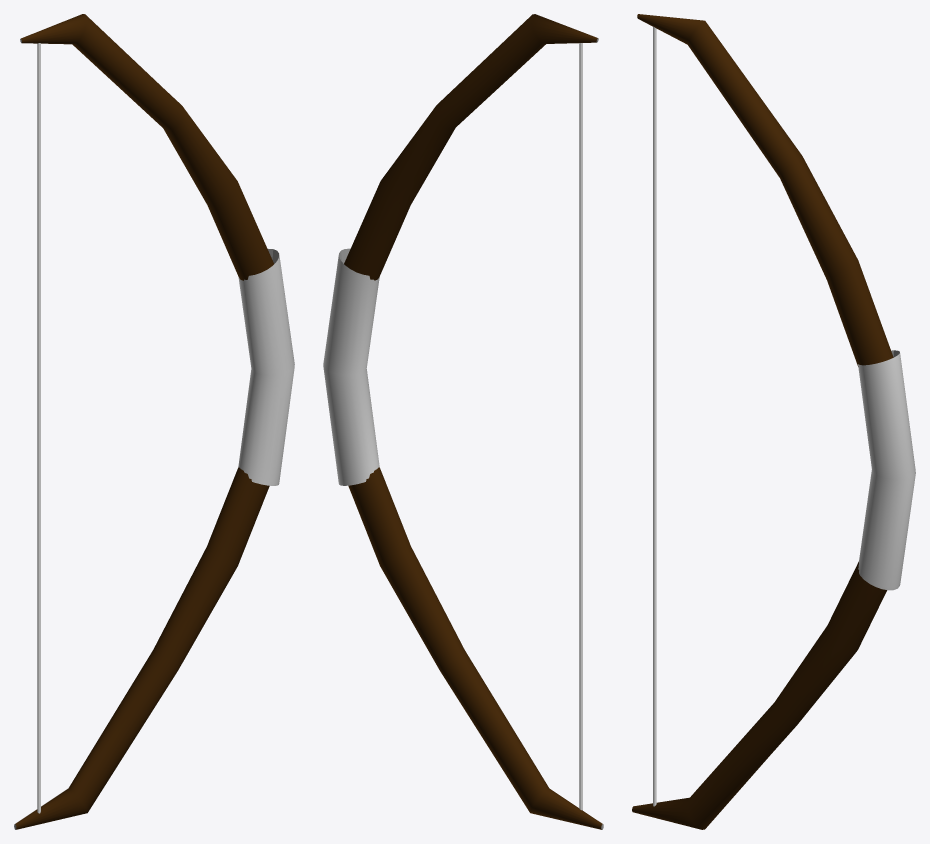
Rendered from arcoMODELO (1).fbx.
3 renders of one model, left to right at view 1: azimuth 30°, elevation 25°; view 2: azimuth 150°, elevation 25°; view 3: azimuth 330°, elevation 25°, orthographic.
Parts seen in each view (by area): view 1: pTorus2; view 2: pTorus2; view 3: pTorus2.
Boxes of the visible parts, x1,y1,x2,y2 form: pTorus2: [14, 14, 294, 829]; pTorus2: [323, 14, 603, 829]; pTorus2: [632, 14, 915, 829].
Bounding box in the file's own units: 2.14 × 5.88 × 0.2552.
